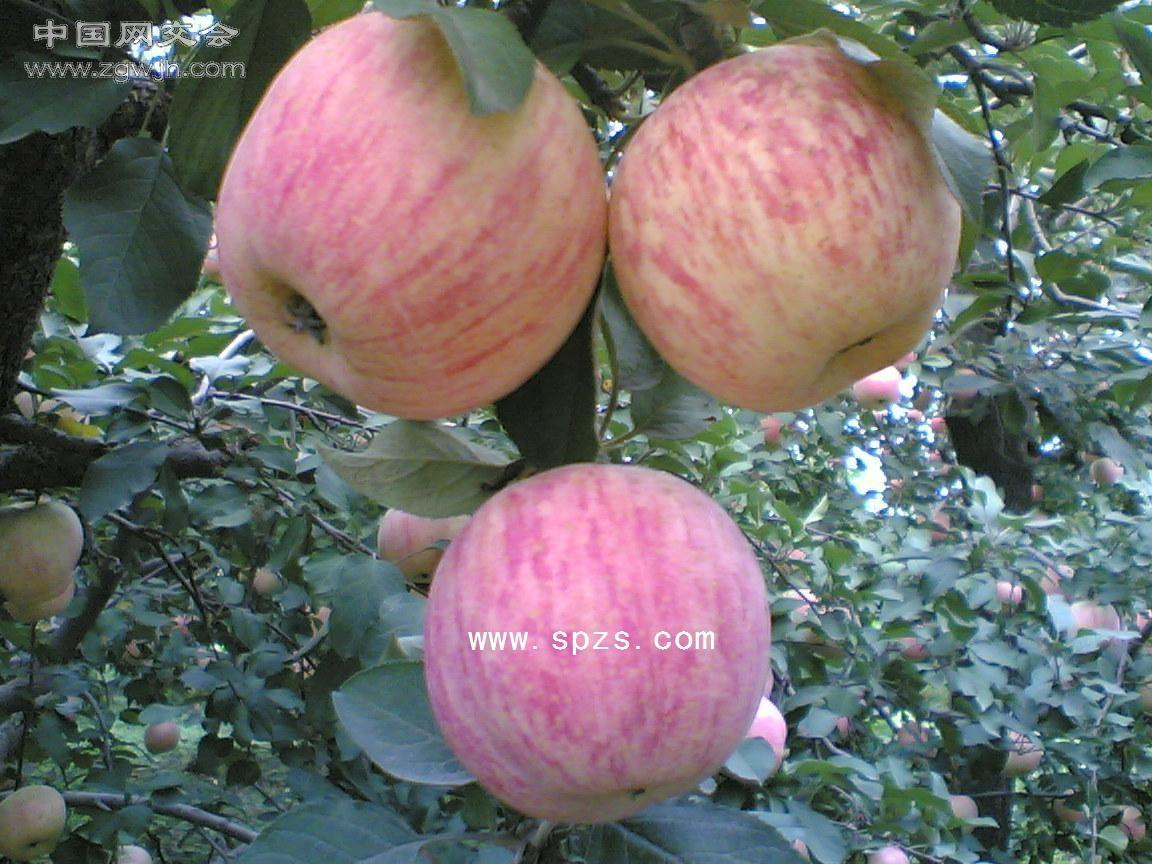apple: (172, 11, 1081, 776), (345, 9, 972, 446), (208, 8, 735, 466), (593, 43, 956, 412), (415, 462, 776, 813), (0, 495, 85, 619), (143, 720, 180, 753)
